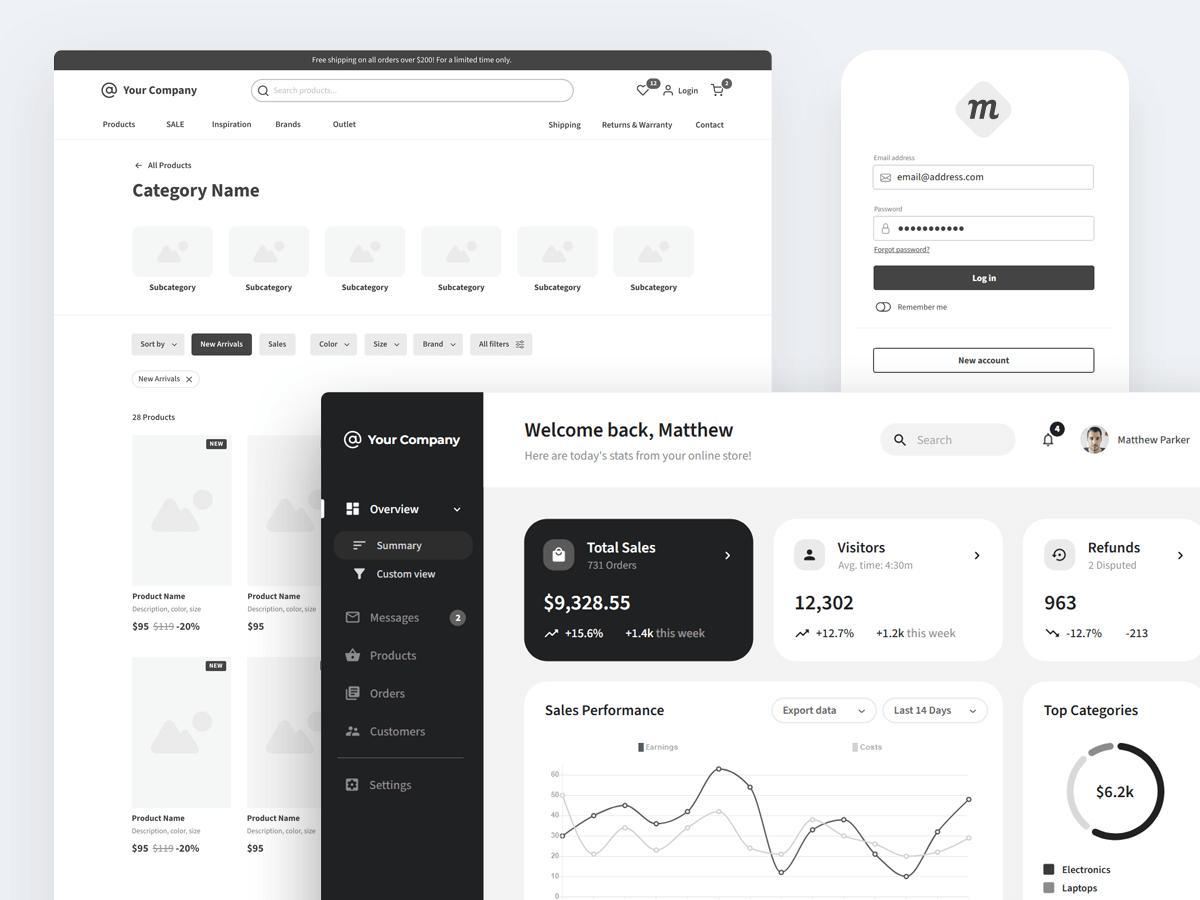button: (874, 348, 1096, 375), (875, 266, 1095, 290), (336, 532, 474, 561), (471, 333, 533, 356), (192, 334, 254, 356), (261, 335, 296, 356)
dropdown: (771, 698, 879, 724), (884, 699, 988, 725), (133, 333, 186, 356), (413, 335, 466, 357), (312, 333, 359, 357), (365, 335, 408, 357)
icon: (1039, 422, 1066, 450), (706, 78, 735, 99), (636, 79, 662, 98), (342, 609, 367, 627), (552, 544, 568, 566), (345, 686, 363, 703), (802, 547, 819, 565), (346, 646, 362, 665), (345, 725, 363, 741), (354, 565, 370, 582), (345, 777, 361, 794), (1053, 548, 1069, 565), (663, 84, 675, 97)
input: (253, 79, 575, 101), (873, 165, 1095, 190), (874, 217, 1095, 242), (882, 425, 1016, 459)
label: (525, 418, 737, 445), (541, 699, 670, 722), (134, 182, 267, 202), (1042, 704, 1145, 721), (584, 536, 659, 559), (599, 119, 676, 134), (1119, 433, 1190, 448), (373, 724, 432, 742), (1086, 539, 1144, 556), (834, 539, 889, 556), (378, 568, 440, 582), (148, 280, 200, 296), (370, 650, 422, 664), (371, 779, 414, 795), (896, 303, 953, 315), (633, 282, 680, 296), (869, 151, 919, 164), (439, 282, 487, 295), (369, 613, 425, 624), (245, 282, 295, 294), (342, 283, 390, 295), (370, 687, 411, 700), (547, 119, 585, 132), (875, 203, 910, 217), (532, 285, 585, 293), (101, 121, 138, 132), (211, 121, 254, 130), (696, 122, 729, 132), (164, 119, 189, 132), (332, 118, 358, 130), (274, 119, 302, 130), (678, 87, 699, 97)
switch: (876, 303, 895, 313)
